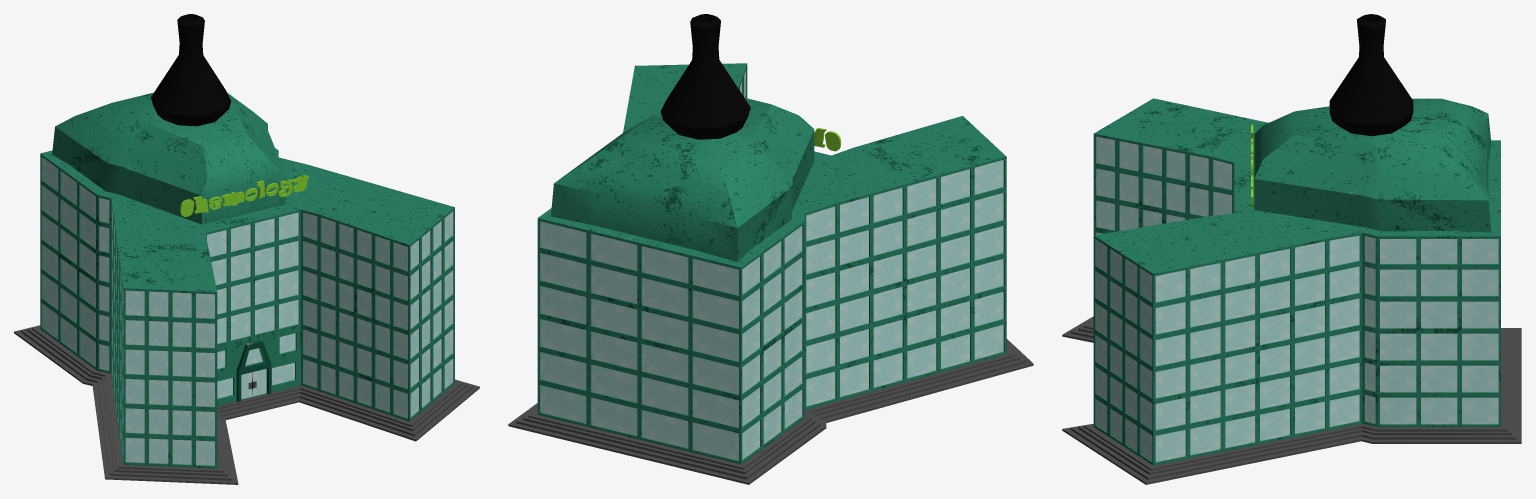
File: Chemology.fbx
3 views of the same model, side by side, from view 1: azimuth 30°, elevation 25°; view 2: azimuth 150°, elevation 25°; view 3: azimuth 270°, elevation 25° (orthographic). The views are drawn at different scales.
Visible parts, largest first — view 1: Church_of_Chemology, Cylinder; view 2: Church_of_Chemology, Cylinder; view 3: Church_of_Chemology, Cylinder.
Boxes of the visible parts, x1,y1,x2,y2 form: Church_of_Chemology: [14, 92, 479, 484]; Cylinder: [151, 14, 231, 126]; Church_of_Chemology: [508, 63, 1033, 484]; Cylinder: [660, 14, 750, 139]; Church_of_Chemology: [1062, 98, 1521, 484]; Cylinder: [1329, 14, 1413, 136].
Size of the model in its own units: 3048 by 2645 by 2983.
Materials: 3 (1 with a texture image).
